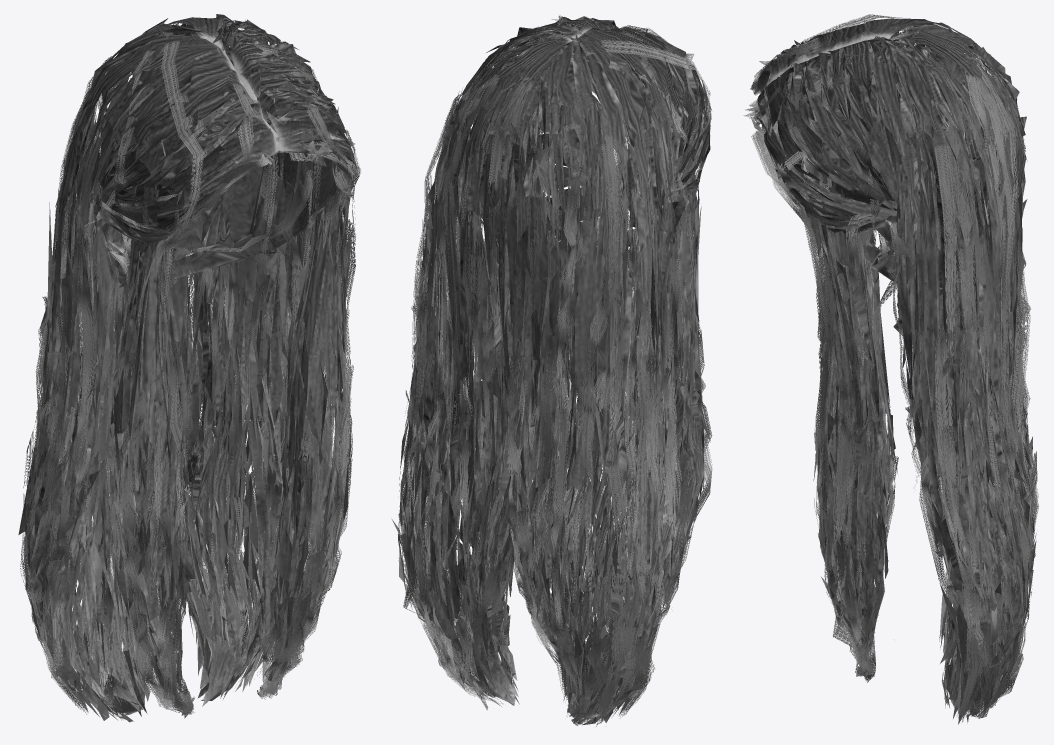
Rendered from hair_long.glb.
The picture shows the model from 3 angles, left to right: view 1: azimuth 30°, elevation 25°; view 2: azimuth 150°, elevation 25°; view 3: azimuth 270°, elevation 25°; orthographic projection. The views are drawn at different scales.
Visible parts, largest first — view 1: Mesh_0, haircards; view 2: Mesh_0, haircards; view 3: Mesh_0, haircards.
Boxes of the visible parts, x1,y1,x2,y2 form: Mesh_0: [18, 14, 355, 722]; haircards: [20, 22, 360, 720]; Mesh_0: [391, 16, 711, 725]; haircards: [398, 15, 712, 726]; Mesh_0: [750, 18, 1036, 724]; haircards: [743, 14, 1038, 720].
Size of the model in its own units: 0.2366 by 0.5396 by 0.2165.
Materials: 2 (2 with a texture image).
